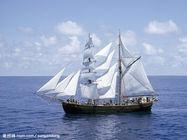fanchuan: (27, 27, 157, 118)
